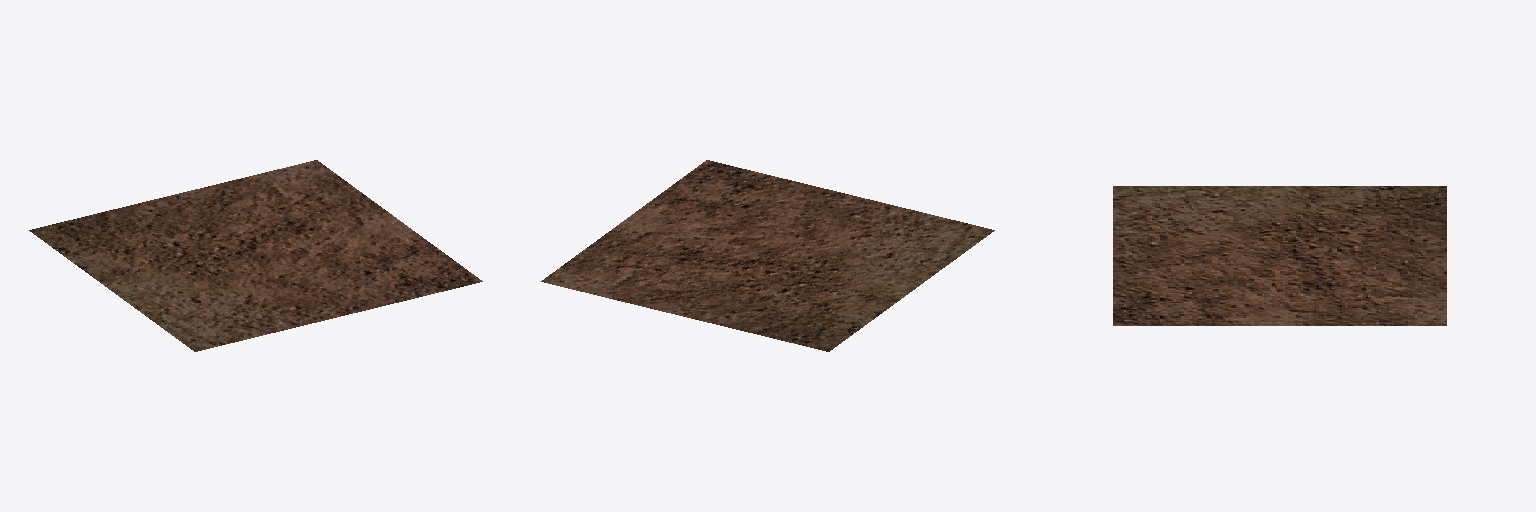
3 views of the same model, side by side, from view 1: azimuth 30°, elevation 25°; view 2: azimuth 150°, elevation 25°; view 3: azimuth 270°, elevation 25° (orthographic).
Size of the model in its own units: 2 by 0 by 2.
1 materials, 1 textured.